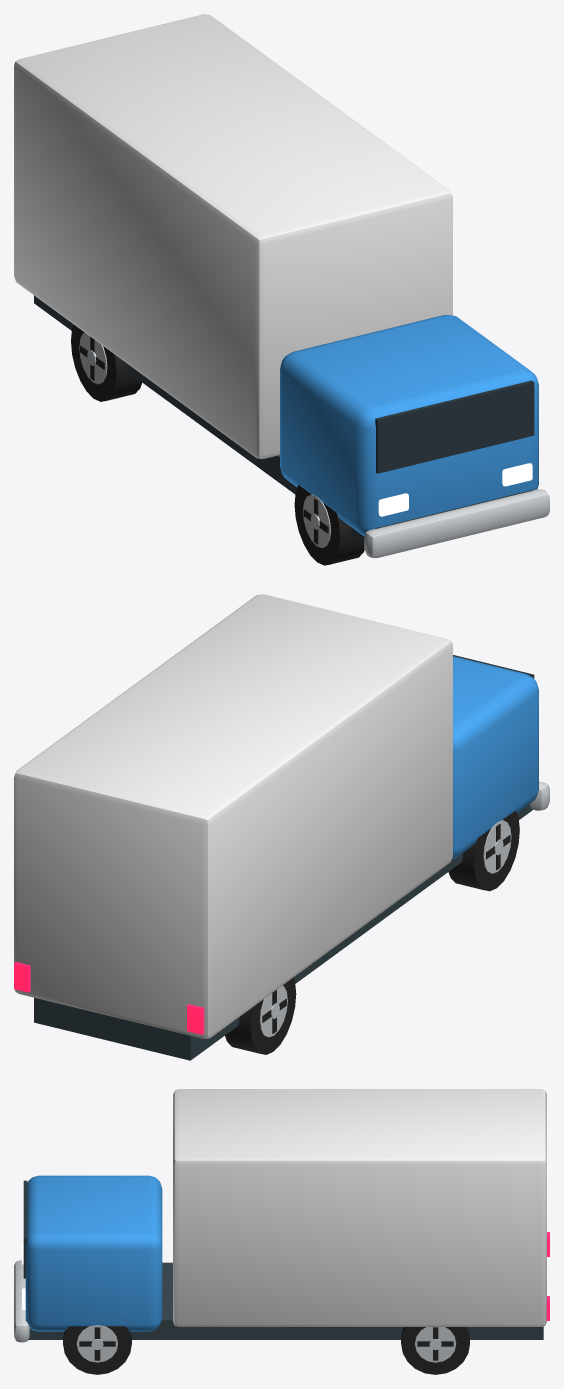
File: truck.glb
3 renders of one model, top to bottom at view 1: azimuth 30°, elevation 25°; view 2: azimuth 150°, elevation 25°; view 3: azimuth 270°, elevation 25°, orthographic. The views are drawn at different scales.
Visible parts, largest first — view 1: Truck_body, Wheel_FR.004, Wheel_RR.004; view 2: Truck_body, Wheel_FR.004, Wheel_RR.004; view 3: Truck_body, Wheel_FL.004, Wheel_RL.004.
Boxes of the visible parts, x1,y1,x2,y2 form: Truck_body: (14, 14, 549, 558); Wheel_FR.004: (294, 485, 364, 565); Wheel_RR.004: (71, 324, 142, 401); Truck_body: (14, 594, 549, 1060); Wheel_FR.004: (448, 810, 519, 891); Wheel_RR.004: (225, 977, 296, 1054); Truck_body: (14, 1089, 549, 1342); Wheel_FL.004: (63, 1325, 131, 1374); Wheel_RL.004: (401, 1327, 469, 1374).
Size of the model in its own units: 2.4 by 3.35 by 7.45.
